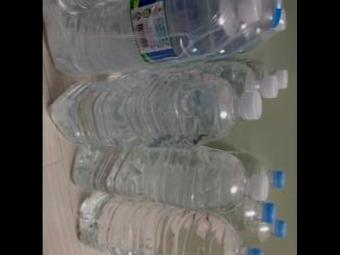bottle: (50, 70, 262, 146), (42, 0, 260, 73), (72, 138, 268, 212), (77, 223, 264, 255)
